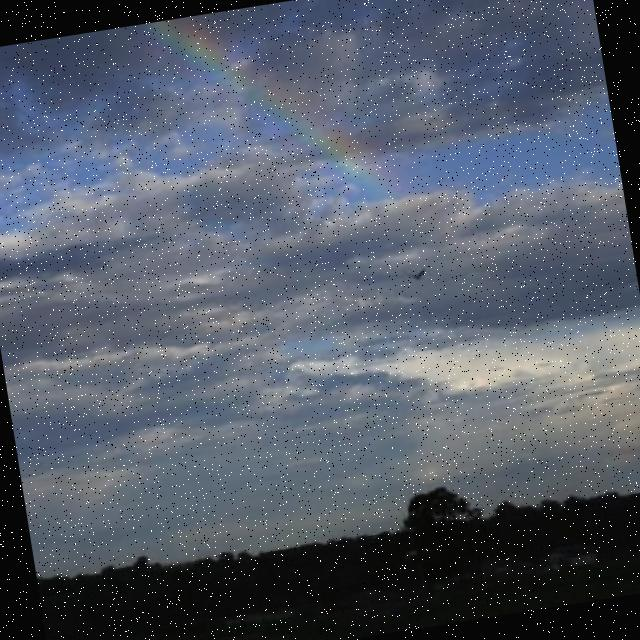Ac: (1, 1, 640, 491)
